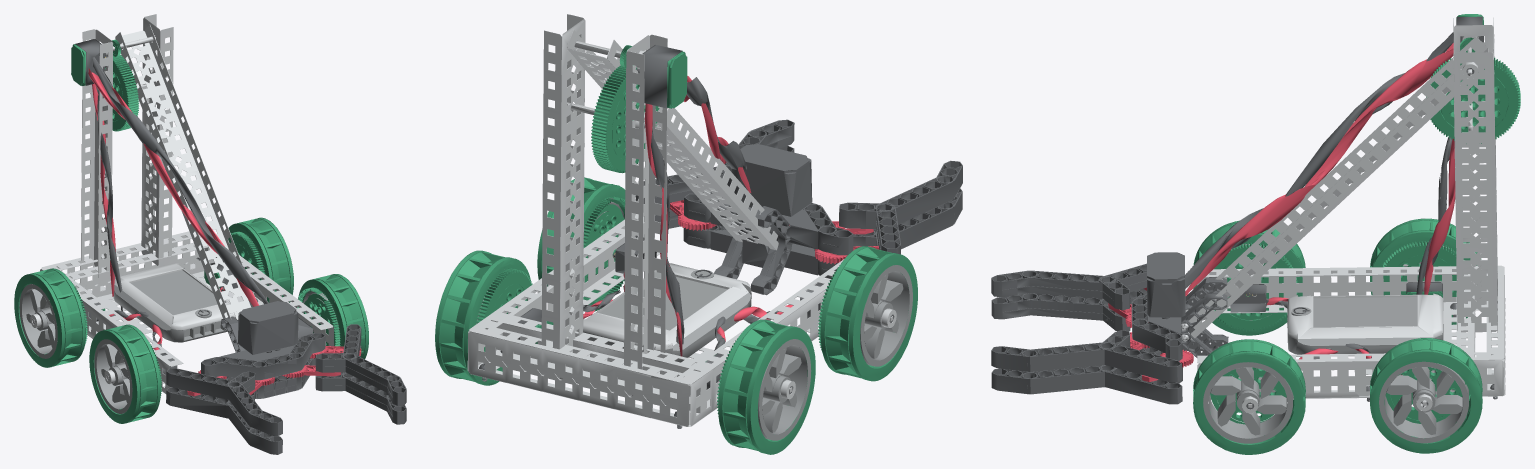
File: clawbot_anim.glb
3 renders of one model, left to right at view 1: azimuth 30°, elevation 25°; view 2: azimuth 150°, elevation 25°; view 3: azimuth 270°, elevation 25°, orthographic. The views are drawn at different scales.
Parts seen in each view (by area): view 1: Object_8, Object_15.001, Object_15.003; view 2: Object_8, Object_15.003, Object_15.001; view 3: Object_8, Object_15.003, Object_15.001.
Boxes of the visible parts, x1=… form: Object_8: x1=30, y1=14, x2=406, y2=454; Object_15.001: x1=89, y1=274, x2=368, y2=423; Object_15.003: x1=14, y1=217, x2=293, y2=367; Object_8: x1=467, y1=14, x2=962, y2=428; Object_15.003: x1=435, y1=250, x2=815, y2=454; Object_15.001: x1=537, y1=177, x2=917, y2=381; Object_8: x1=991, y1=14, x2=1520, y2=413; Object_15.003: x1=1370, y1=218, x2=1482, y2=453; Object_15.001: x1=1193, y1=220, x2=1305, y2=454.
Bounding box in the file's own units: 0.9263 × 1.08 × 1.49.
